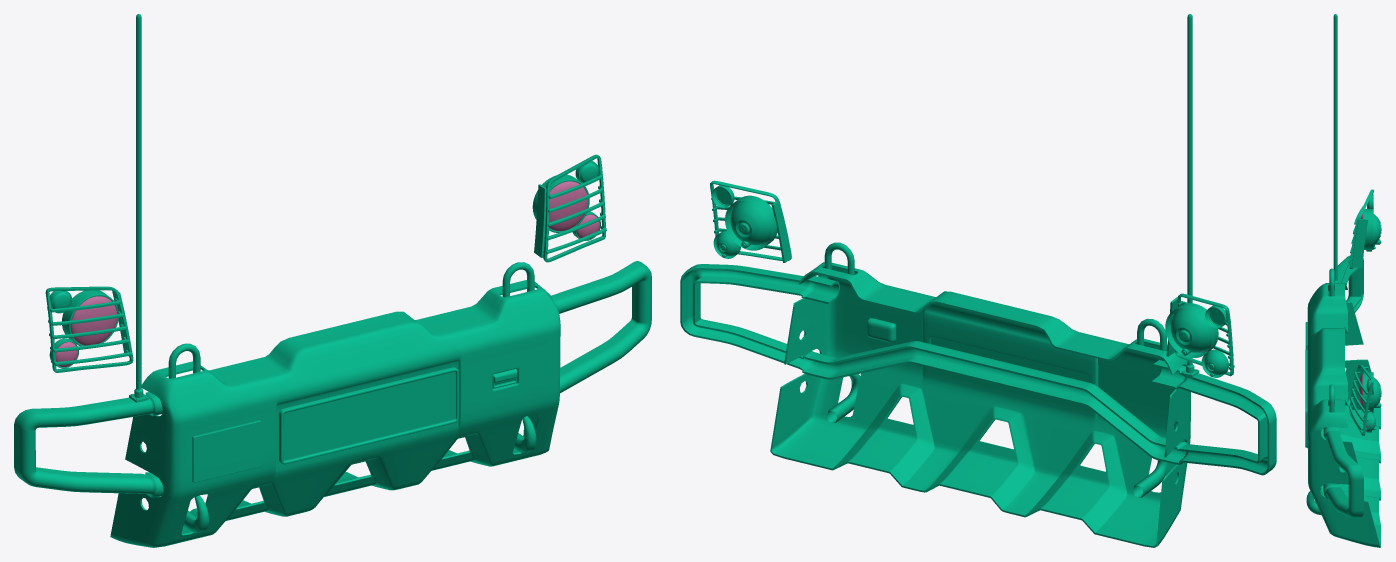
Rendered from FHXY_02BX_A7_BaoXian_MD_exp.fbx.
The picture shows the model from 3 angles, left to right: view 1: azimuth 30°, elevation 25°; view 2: azimuth 150°, elevation 25°; view 3: azimuth 270°, elevation 25°; orthographic projection. The views are drawn at different scales.
Visible parts, largest first — view 1: FHXY_02BX_A7_BaoXian_MD_L, mirrored_x_2, mirrored_x_6, FHXY_02BX_A7_BaoXian_MD_L_Glass, mirrored_x_4; view 2: FHXY_02BX_A7_BaoXian_MD_L, mirrored_x_3, mirrored_x_4, mirrored_x_2; view 3: FHXY_02BX_A7_BaoXian_MD_L, mirrored_x_2, mirrored_x_4, mirrored_x_3, FHXY_02BX_A7_BaoXian_MD_L_Glass.
Part boxes in pixels (<box>): FHXY_02BX_A7_BaoXian_MD_L: <box>14,14,651,547</box>; mirrored_x_2: <box>45,286,133,372</box>; mirrored_x_6: <box>55,296,117,367</box>; FHXY_02BX_A7_BaoXian_MD_L_Glass: <box>549,181,599,239</box>; mirrored_x_4: <box>49,290,118,368</box>; FHXY_02BX_A7_BaoXian_MD_L: <box>680,14,1276,547</box>; mirrored_x_3: <box>1170,307,1225,376</box>; mirrored_x_4: <box>1165,303,1228,377</box>; mirrored_x_2: <box>1166,293,1234,376</box>; FHXY_02BX_A7_BaoXian_MD_L: <box>1305,14,1381,547</box>; mirrored_x_2: <box>1348,189,1373,268</box>; mirrored_x_4: <box>1363,194,1373,251</box>; mirrored_x_3: <box>1373,214,1381,249</box>; FHXY_02BX_A7_BaoXian_MD_L_Glass: <box>1358,374,1366,431</box>.
Bounding box in the file's own units: 186 × 155 × 27.55.
